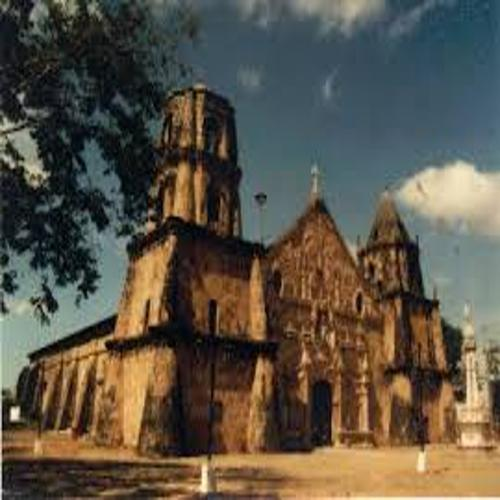Miagao Church: (134, 76, 460, 457)
